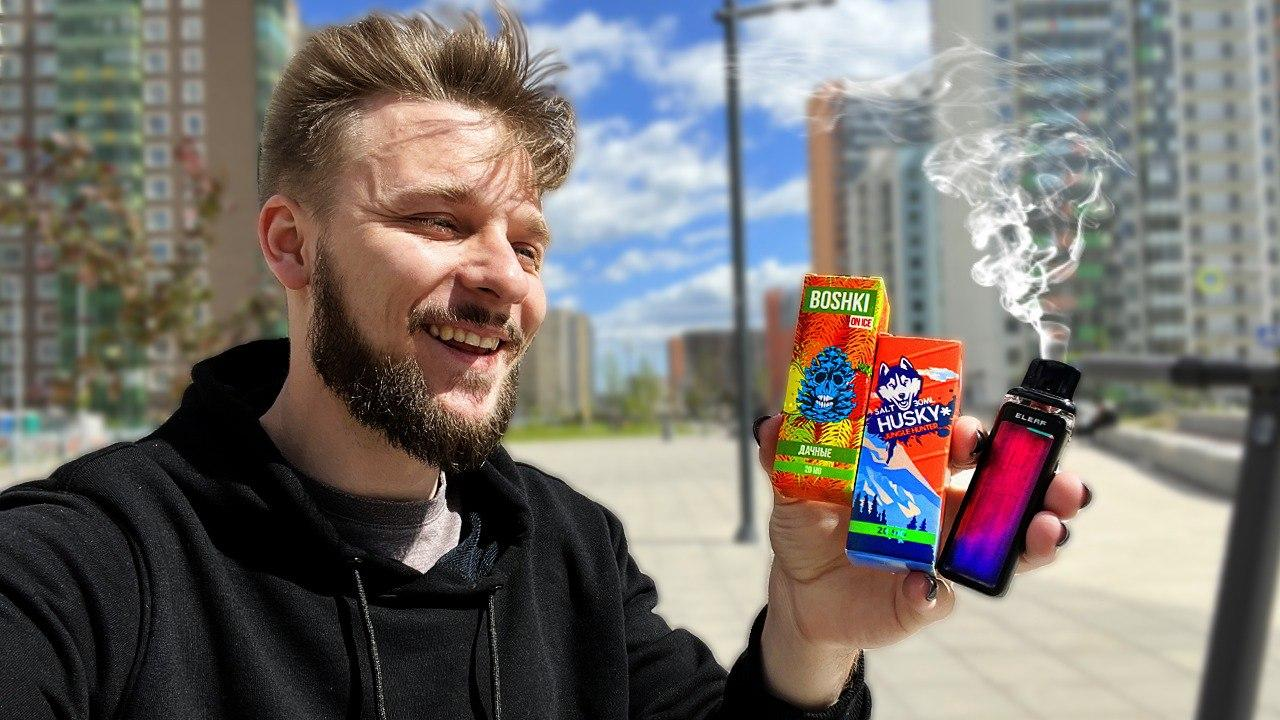Vape: (939, 358, 1080, 594)
